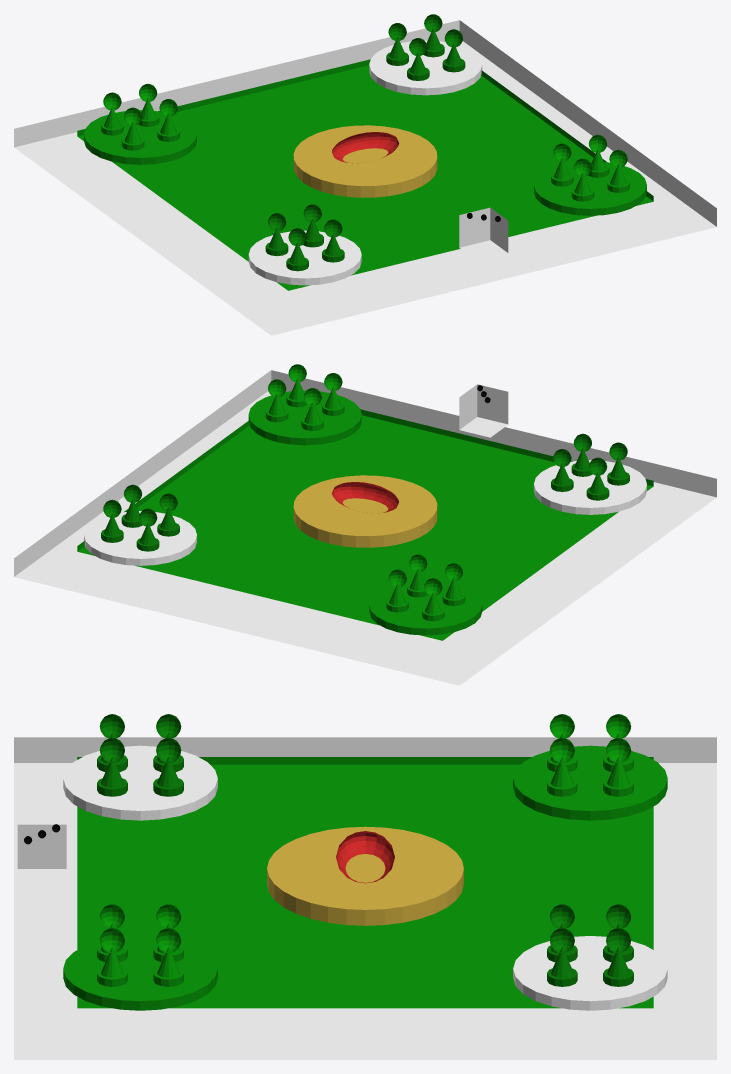
The model's file is Nigeria_Ludo.glb.
3 renders of one model, top to bottom at view 1: azimuth 30°, elevation 25°; view 2: azimuth 150°, elevation 25°; view 3: azimuth 270°, elevation 25°, orthographic. The views are drawn at different scales.
Parts seen in each view (by area): view 1: part_1, part_0, part_2, part_30, part_17, part_4, part_43, part_56, part_3; view 2: part_1, part_0, part_2, part_4, part_43, part_30, part_17, part_56, part_3; view 3: part_1, part_0, part_2, part_4, part_30, part_17, part_43, part_56, part_3.
Boxes of the visible parts, x1=… form: part_1: x1=77, y1=59, x2=653, y2=290; part_0: x1=14, y1=20, x2=716, y2=335; part_2: x1=293, y1=125, x2=437, y2=197; part_30: x1=248, y1=230, x2=361, y2=285; part_17: x1=369, y1=40, x2=482, y2=95; part_4: x1=84, y1=110, x2=196, y2=164; part_43: x1=534, y1=161, x2=646, y2=215; part_56: x1=459, y1=207, x2=508, y2=260; part_3: x1=332, y1=132, x2=399, y2=163; part_1: x1=77, y1=409, x2=653, y2=640; part_0: x1=14, y1=370, x2=716, y2=685; part_2: x1=293, y1=475, x2=437, y2=547; part_4: x1=369, y1=580, x2=482, y2=635; part_43: x1=248, y1=390, x2=361, y2=445; part_30: x1=534, y1=460, x2=646, y2=514; part_17: x1=84, y1=511, x2=196, y2=565; part_56: x1=459, y1=384, x2=508, y2=437; part_3: x1=331, y1=482, x2=398, y2=513; part_1: x1=77, y1=757, x2=653, y2=1008; part_0: x1=14, y1=737, x2=716, y2=1059; part_2: x1=267, y1=826, x2=463, y2=925; part_4: x1=513, y1=745, x2=667, y2=820; part_30: x1=63, y1=745, x2=217, y2=820; part_17: x1=513, y1=936, x2=667, y2=1010; part_43: x1=63, y1=936, x2=217, y2=1010; part_56: x1=17, y1=824, x2=66, y2=889; part_3: x1=336, y1=831, x2=394, y2=883.
Size of the model in its own units: 10 by 1.4 by 10.
